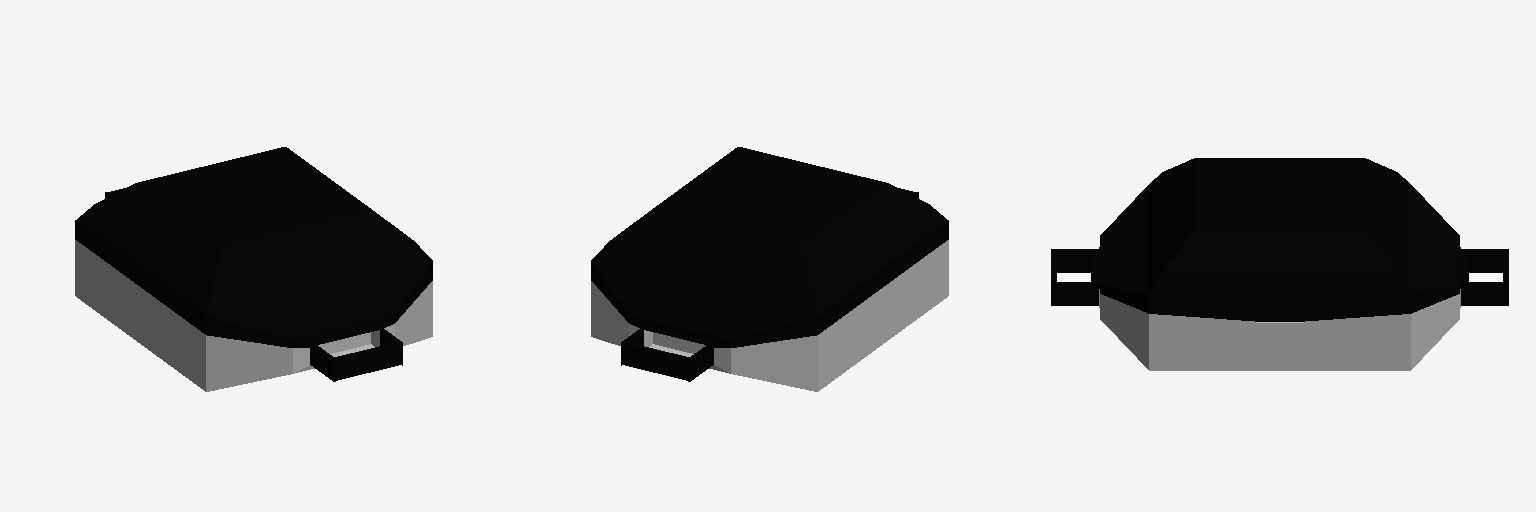
File: crate.obj
The picture shows the model from 3 angles: view 1: azimuth 30°, elevation 25°; view 2: azimuth 150°, elevation 25°; view 3: azimuth 270°, elevation 25°; orthographic projection.
Parts seen in each view (by area): view 1: Cube; view 2: Cube; view 3: Cube.
Part boxes in pixels (x1,y1,x2,y2): Cube: (75, 147, 432, 391); Cube: (591, 147, 948, 391); Cube: (1051, 158, 1508, 370).
Bounding box in the file's own units: 1.02 × 0.5076 × 1.75.